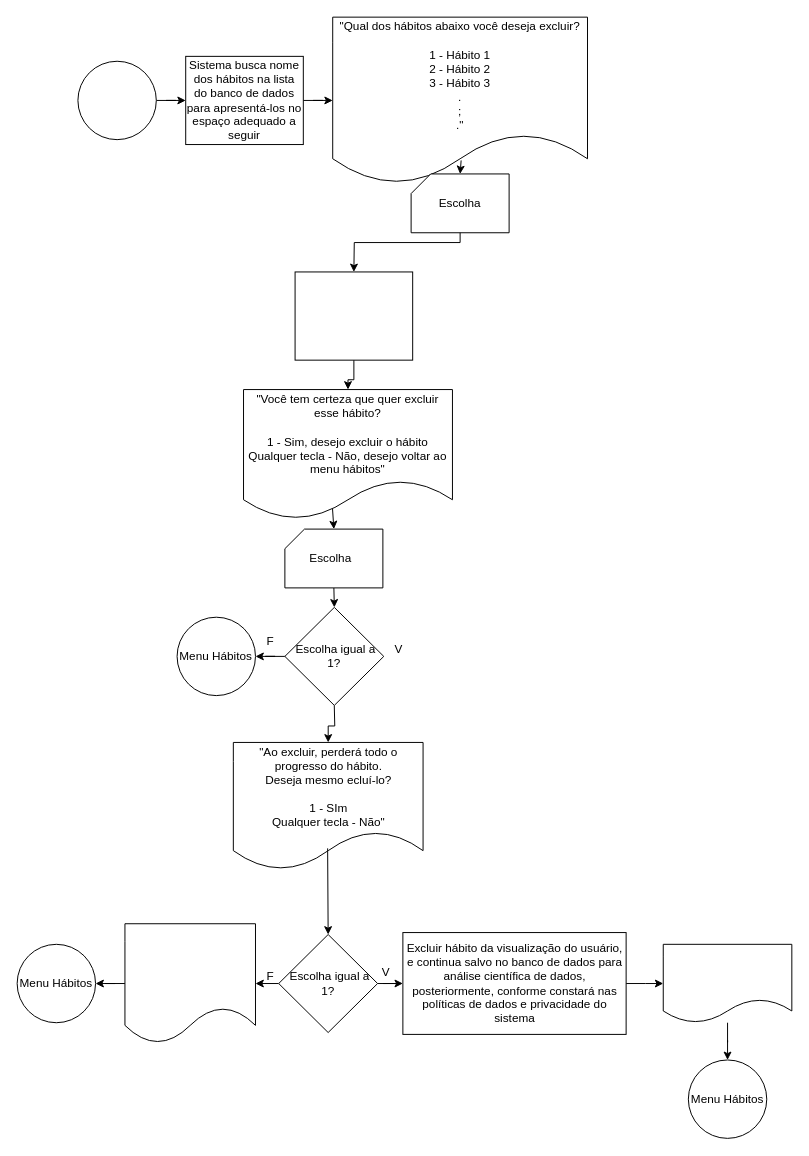
Image size: 809x1156. Some labels were removed from this diagram. Each missing label, with the centre of its shape:
"Processo de exclusão de hábito. Voltando ao menu hábitos... ": (x=189, y=983)
"Seu hábito foi exlcuída com sucesso.": (x=727, y=983)
Busca o hábito na posição correspondente da lista ao número - 1: (x=353, y=315)
Deletar Hábito: (x=116, y=100)
